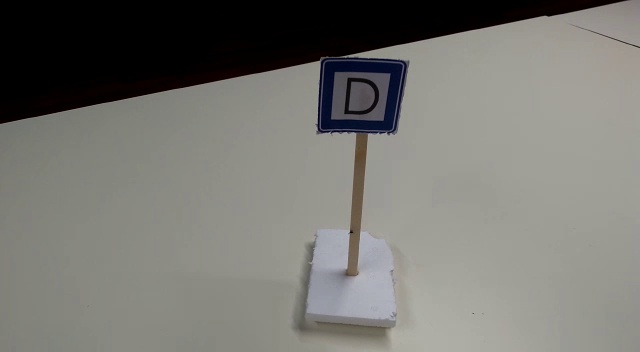durak: (317, 56, 408, 137)
